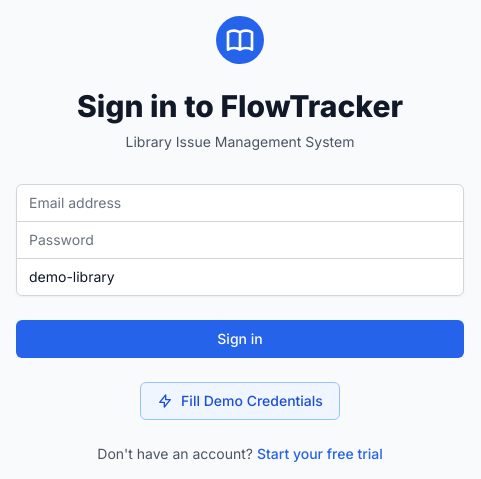
Test: LoginForm › shows loading state during login
Clear the field named "Library Slug" at (240, 277), box [16,258,464,296]
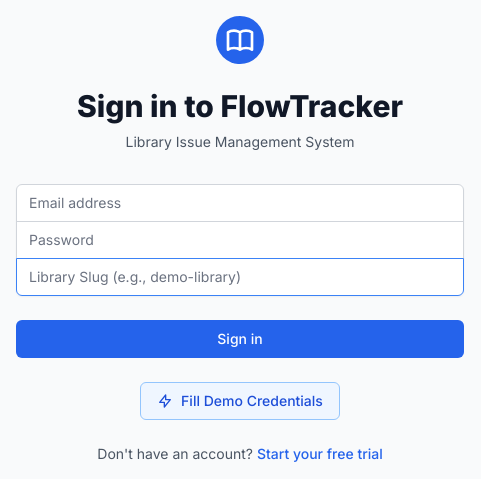
Type "test@example.com" into the field labelled "Email address".
click(240, 203); type("test@example.com")  # box [16,184,464,222]
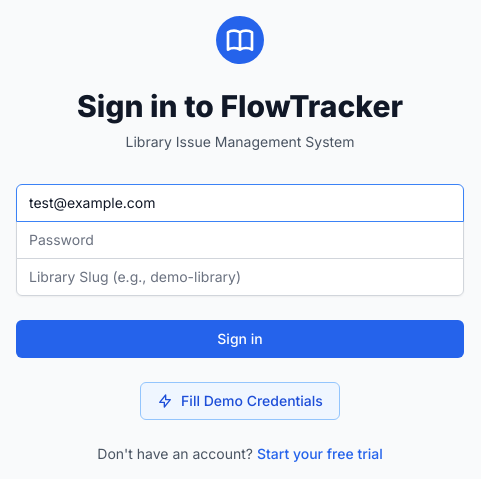
Type "password123" into the password field labelled "Password".
click(240, 240); type("password123")  # box [16,221,464,259]
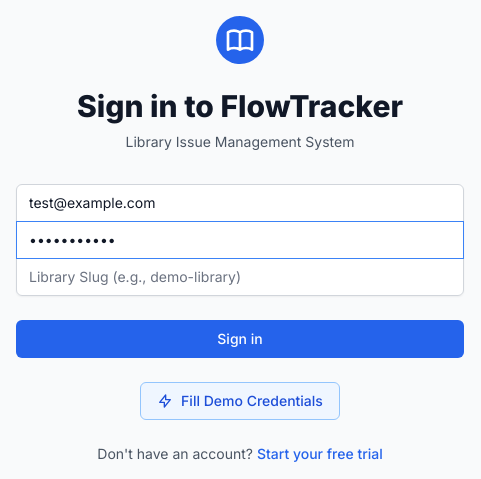
Type "test-library" into the field labelled "Library Slug (e.g., demo-library)".
click(240, 277); type("test-library")  # box [16,258,464,296]
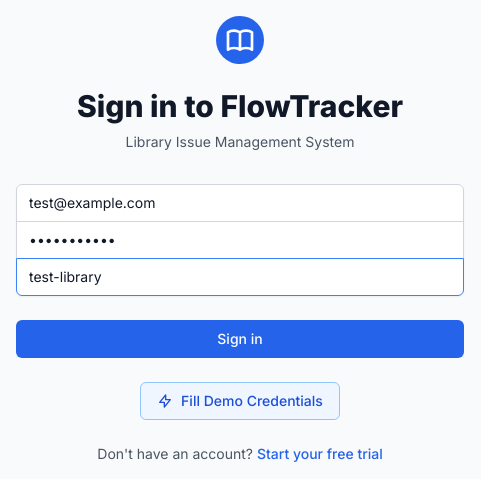
Click the button "Sign in".
click(240, 339)  # box [16,320,464,358]
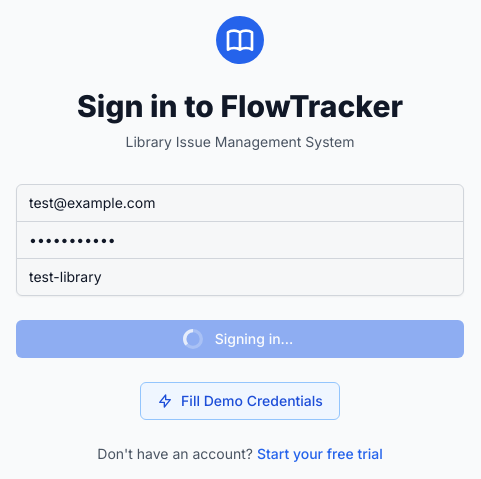
Check: the button "Signing in..." is disabled, box [16,320,464,358]
